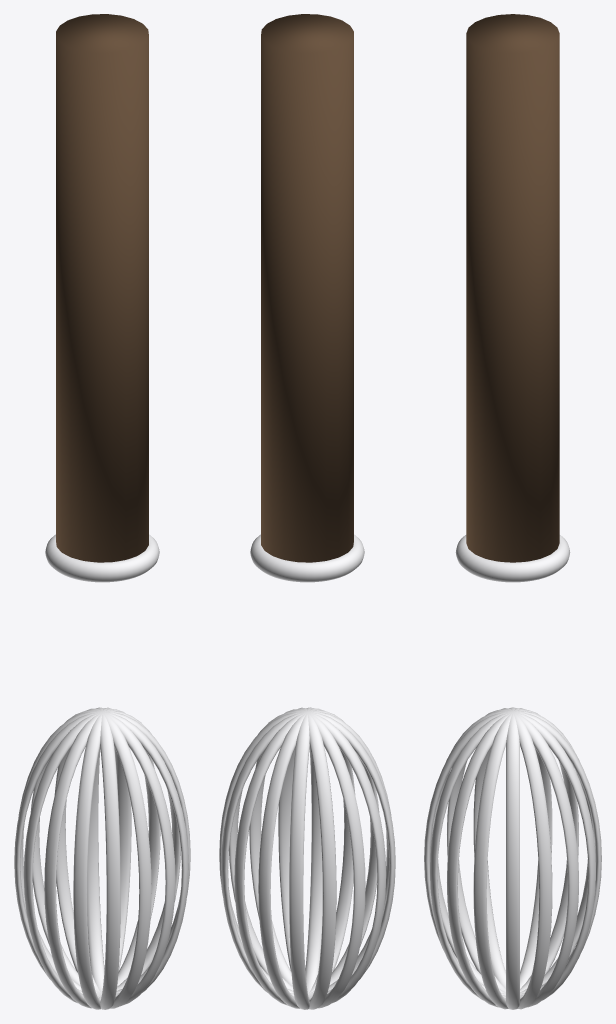
File: whisk.gltf
The picture shows the model from 3 angles, left to right: view 1: azimuth 30°, elevation 25°; view 2: azimuth 150°, elevation 25°; view 3: azimuth 270°, elevation 25°; orthographic projection.
Parts seen in each view (by area): view 1: Handle.002, Wire3, Wire2, Wire4, Wire1, Wire5, Wire0, Wire6, Wire7, Ferrule; view 2: Handle.002, Wire5, Wire6, Wire4, Wire7, Wire3, Wire0, Wire2, Wire1, Ferrule; view 3: Handle.002, Wire1, Wire7, Wire2, Wire6, Wire0, Wire3, Wire5, Wire4, Ferrule.
Boxes of the visible parts, left/top/right/bottom form: Handle.002: left=56, top=14, right=148, bottom=562; Wire3: left=87, top=707, right=120, bottom=1009; Wire2: left=73, top=707, right=131, bottom=1009; Wire4: left=54, top=708, right=151, bottom=1008; Wire1: left=44, top=709, right=160, bottom=1008; Wire5: left=30, top=710, right=175, bottom=1005; Wire0: left=23, top=710, right=180, bottom=1003; Wire6: left=18, top=711, right=188, bottom=995; Wire7: left=14, top=712, right=190, bottom=995; Ferrule: left=45, top=534, right=159, bottom=582; Handle.002: left=261, top=14, right=353, bottom=562; Wire5: left=289, top=707, right=322, bottom=1009; Wire6: left=278, top=707, right=336, bottom=1009; Wire4: left=258, top=708, right=355, bottom=1008; Wire7: left=249, top=709, right=365, bottom=1008; Wire3: left=234, top=710, right=379, bottom=1005; Wire0: left=229, top=710, right=386, bottom=1003; Wire2: left=221, top=711, right=391, bottom=995; Wire1: left=219, top=712, right=395, bottom=995; Ferrule: left=250, top=534, right=364, bottom=582; Handle.002: left=466, top=14, right=559, bottom=562; Wire1: left=473, top=708, right=552, bottom=1009; Wire7: left=473, top=708, right=552, bottom=1009; Wire2: left=447, top=709, right=578, bottom=1007; Wire6: left=447, top=709, right=578, bottom=1007; Wire0: left=506, top=707, right=519, bottom=1009; Wire3: left=430, top=711, right=595, bottom=1000; Wire5: left=430, top=711, right=595, bottom=1000; Wire4: left=424, top=712, right=601, bottom=994; Ferrule: left=455, top=535, right=570, bottom=582.
Size of the model in its own units: 0.0342 by 0.2061 by 0.0342.
